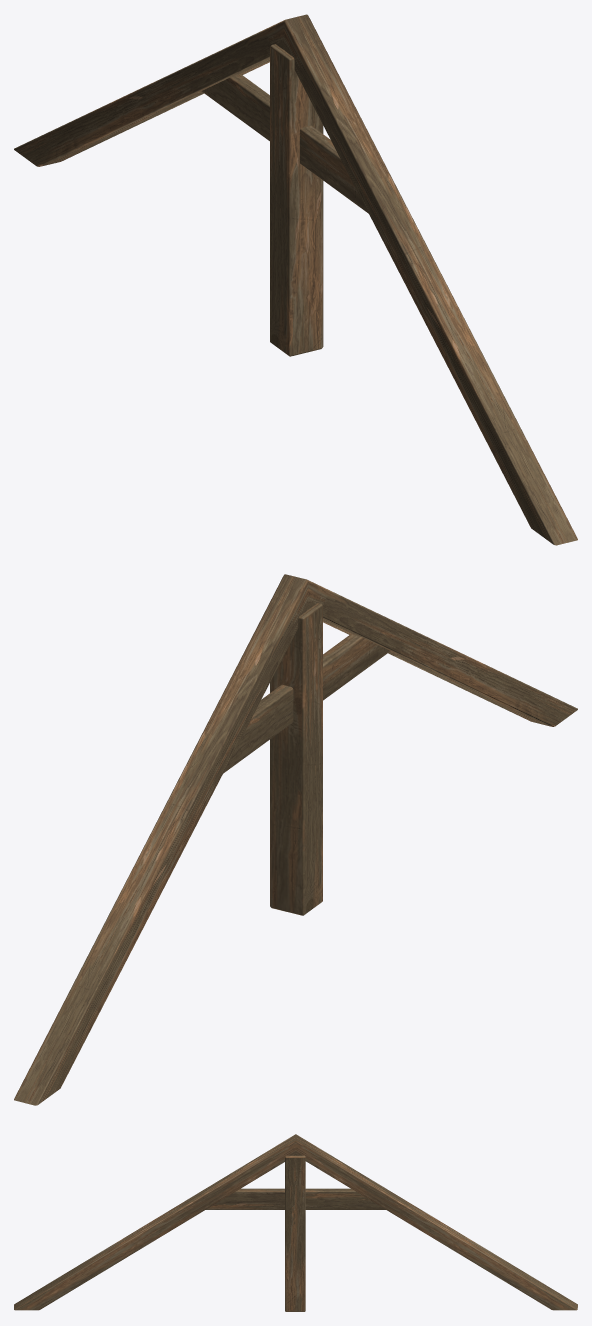
File: SM_roof_support_01.fbx
The picture shows the model from 3 angles, top to bottom: view 1: azimuth 30°, elevation 25°; view 2: azimuth 150°, elevation 25°; view 3: azimuth 270°, elevation 25°; orthographic projection. The views are drawn at different scales.
Parts seen in each view (by area): view 1: SM_roof_support_01_LOD0; view 2: SM_roof_support_01_LOD0; view 3: SM_roof_support_01_LOD0.
Part boxes in pixels (left/top/right/bottom): SM_roof_support_01_LOD0: left=14, top=14, right=577, bottom=545; SM_roof_support_01_LOD0: left=14, top=574, right=577, bottom=1105; SM_roof_support_01_LOD0: left=14, top=1134, right=577, bottom=1311.
Size of the model in its own units: 44.2 by 1190 by 398.
1 material, 1 textured.
